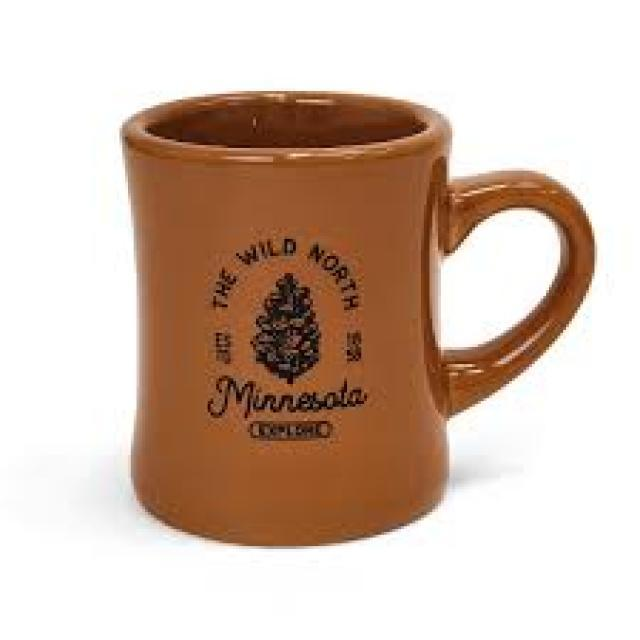taza: (120, 90, 596, 548)
